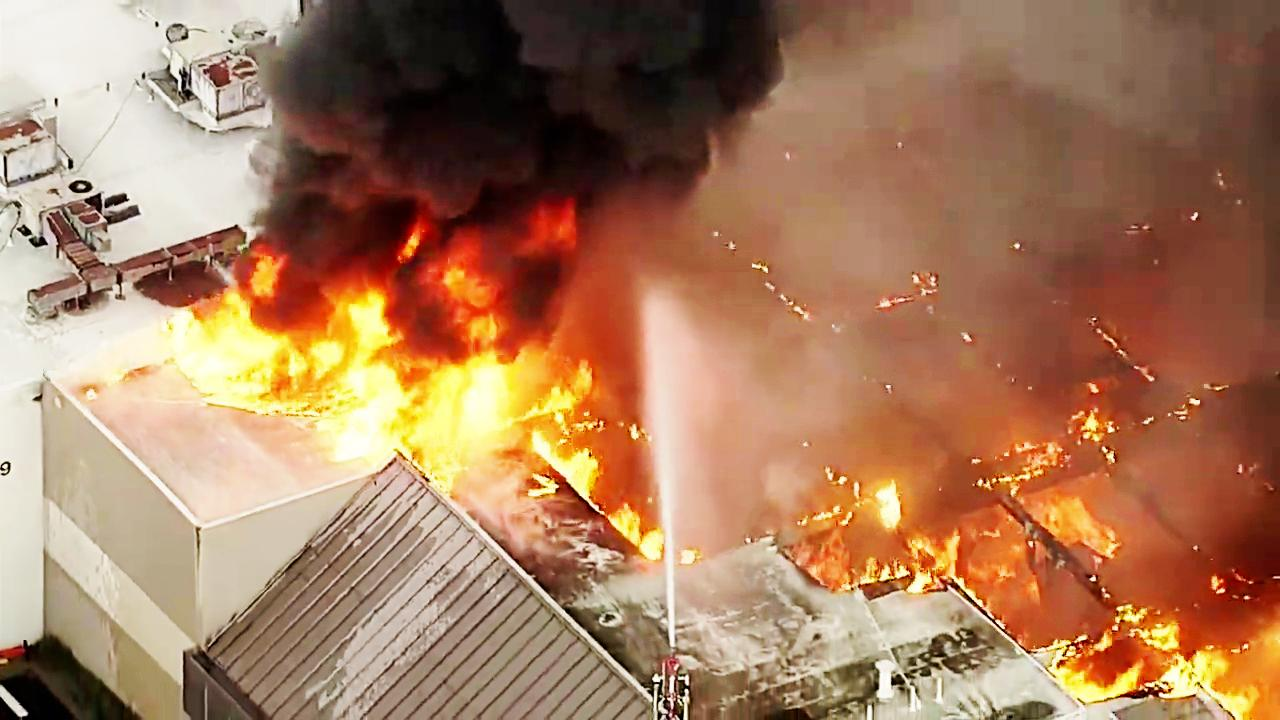fire: (1070, 588, 1280, 710), (306, 284, 442, 450), (165, 260, 298, 419), (407, 332, 544, 459)
smoke: (343, 0, 670, 247)
